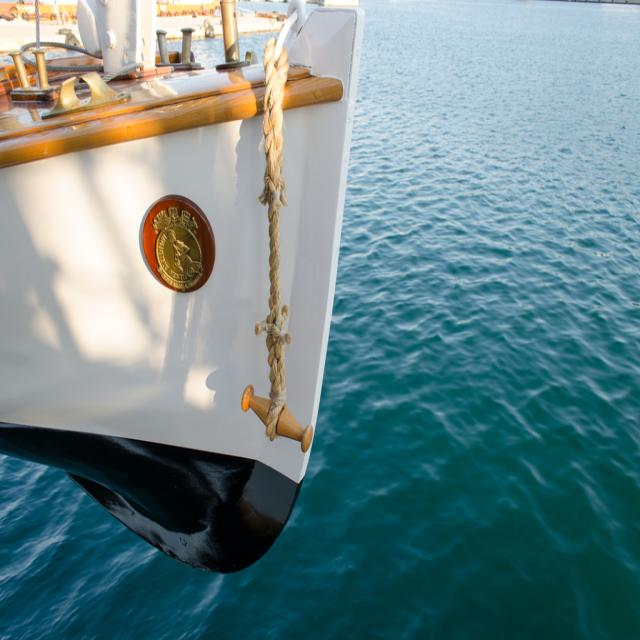Coin: (140, 197, 216, 285)
